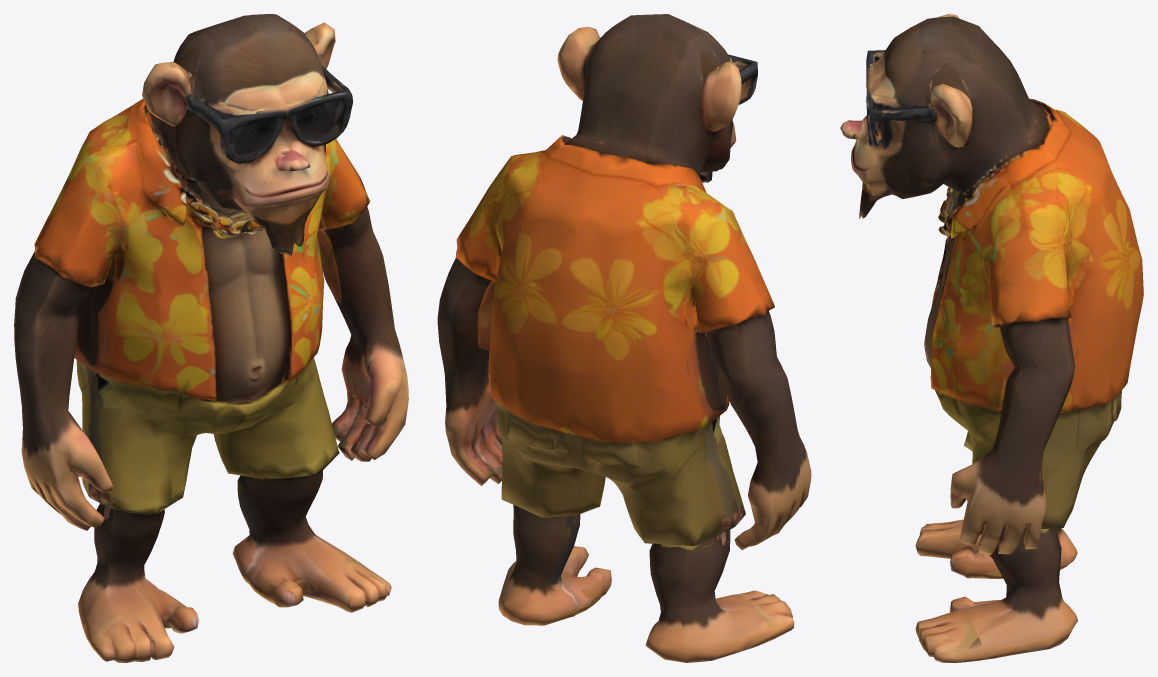
Rendered from Chill_Ape_Adventure_0407150704_texture.fbx.
3 renders of one model, left to right at view 1: azimuth 30°, elevation 25°; view 2: azimuth 150°, elevation 25°; view 3: azimuth 270°, elevation 25°, orthographic. The views are drawn at different scales.
Visible parts, largest first — view 1: Mesh1; view 2: Mesh1; view 3: Mesh1.
Boxes of the visible parts, <box> form: Mesh1: <box>14,14,408,662</box>; Mesh1: <box>437,14,811,662</box>; Mesh1: <box>840,14,1143,662</box>.
Size of the model in its own units: 125 by 200 by 96.05.
1 material, 1 textured.
